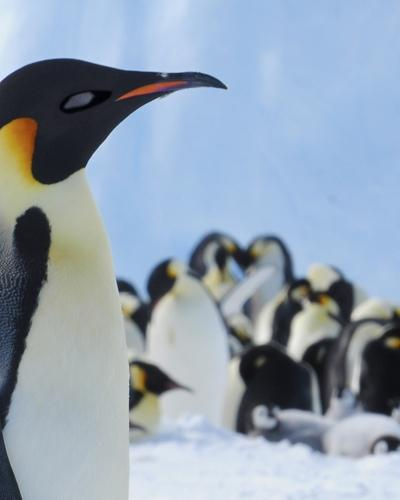Emperor Penguin: (0, 22, 220, 500)
